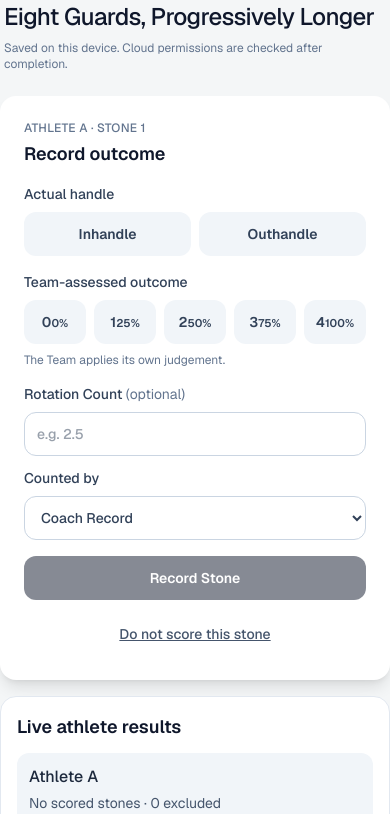
Test: ExerciseTeamExecutionScreen › records athlete attribution, 0-4 outcome and half rotations, then applies planned rotation
Check: the text "Athlete A · Stone 1" is shown, box [24,120,146,136]
Step 1. Click the button "Inhandle" → {"x": 108, "y": 234}, box [24,212,191,256]
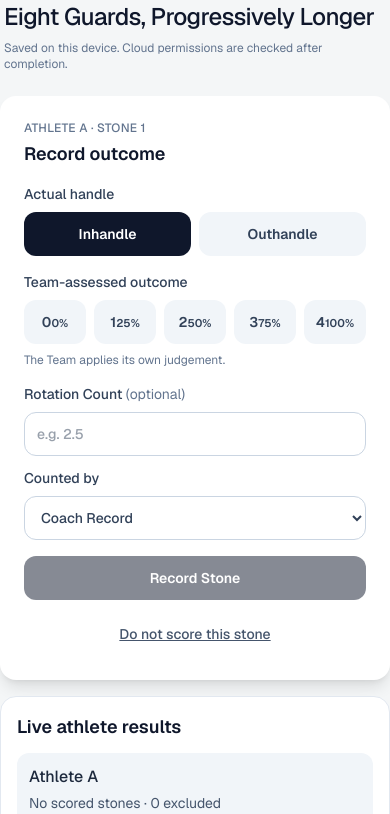
Step 2. Type "2.5" into the number field labelled "Rotation Count (optional)" → {"x": 195, "y": 434}, box [24,412,366,456]
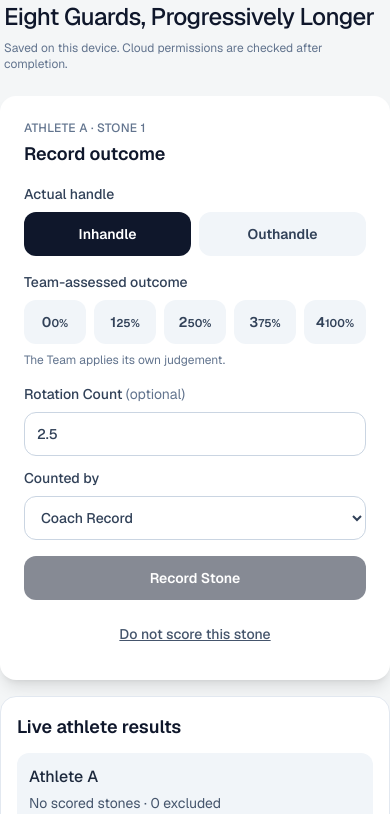
Step 3. Click the button named "4 points, 100 percent" → {"x": 335, "y": 322}, box [304,300,366,344]
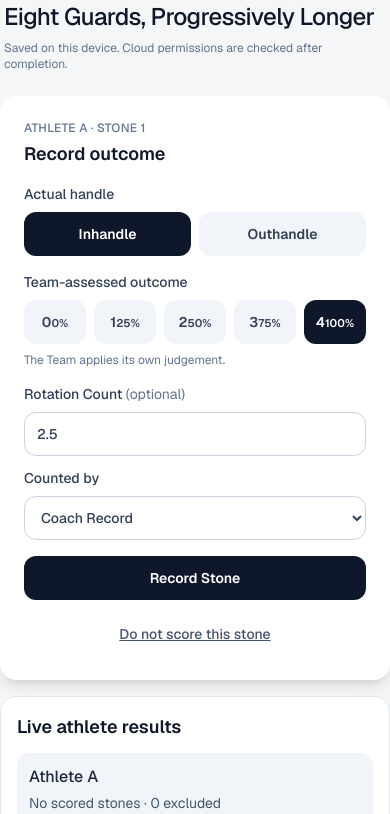
Step 4. Click the button "Record Stone" → {"x": 195, "y": 578}, box [24,556,366,600]
(page scrolled)
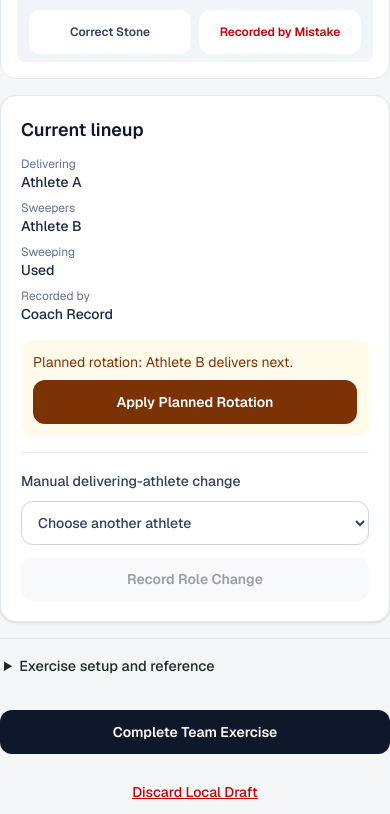
Check: the text "Planned rotation: Athlete B delivers next." is shown, box [33,353,293,371]
Step 5. Click the button "Apply Planned Rotation" → {"x": 195, "y": 402}, box [33,380,357,424]
(page scrolled)
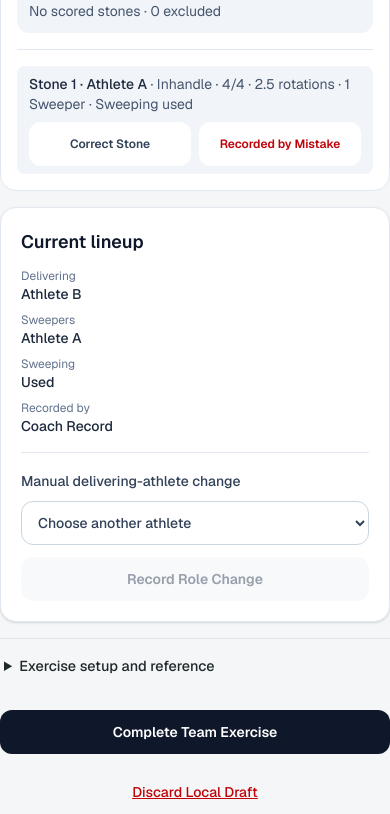
Check: the text "Athlete A" is shown, box [21,329,82,347]
